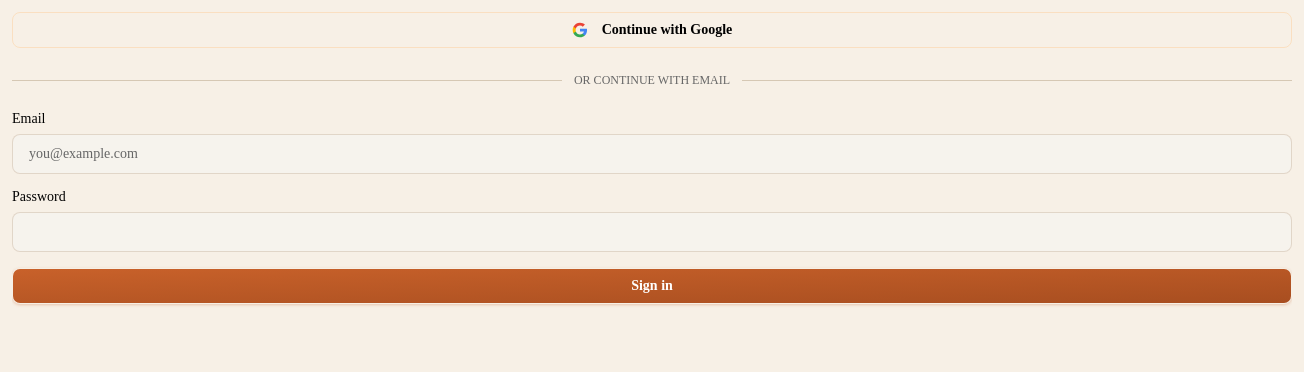
Test: LoginForm › shows error when email is empty
The image size is (1304, 372).
Click the button "Sign in": [652, 286] box [12, 268, 1292, 304]
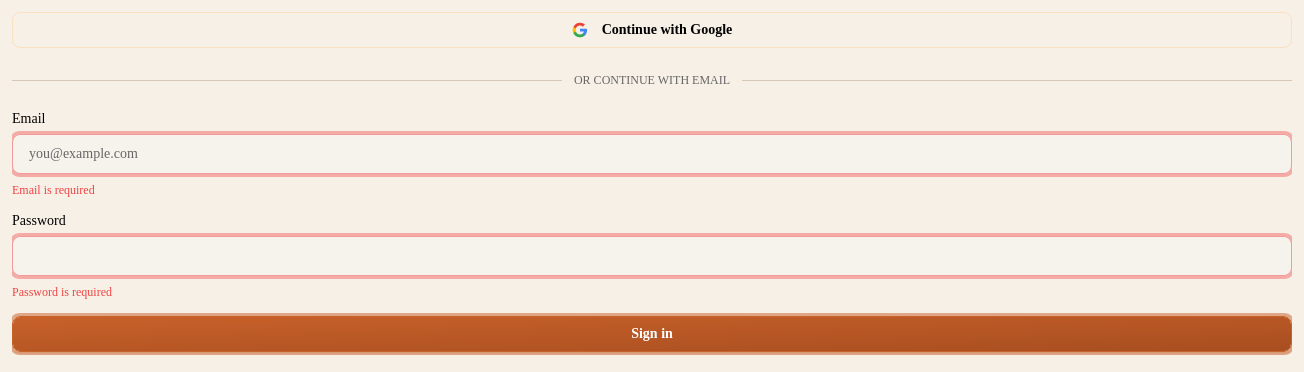
Check: the text "Email is required" is shown, box [12, 183, 95, 197]
